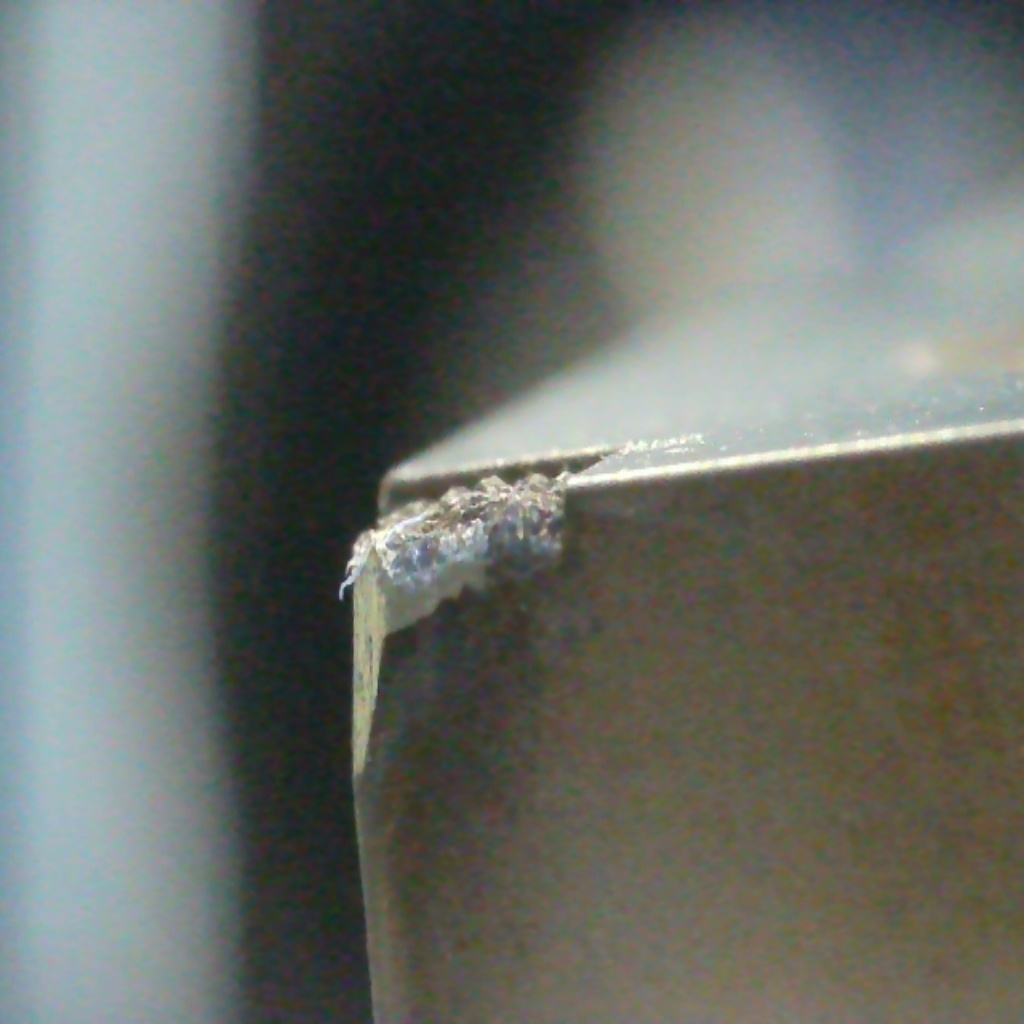flank_wear: (347, 532, 469, 788)
